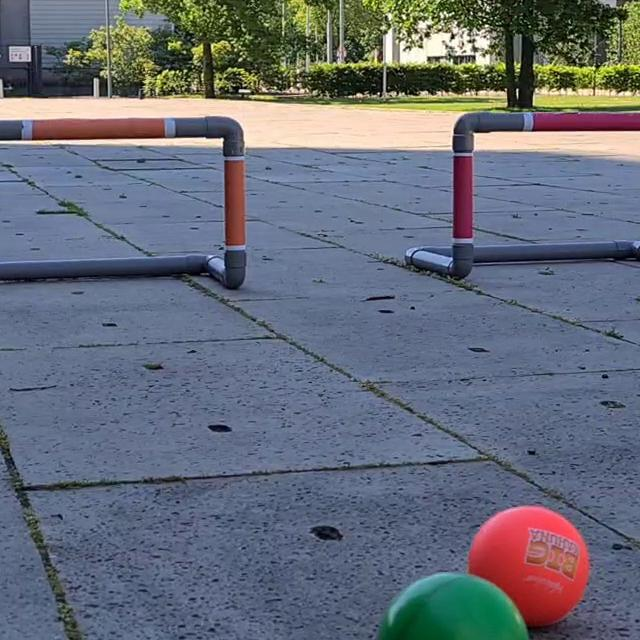ball: (376, 569, 534, 640)
